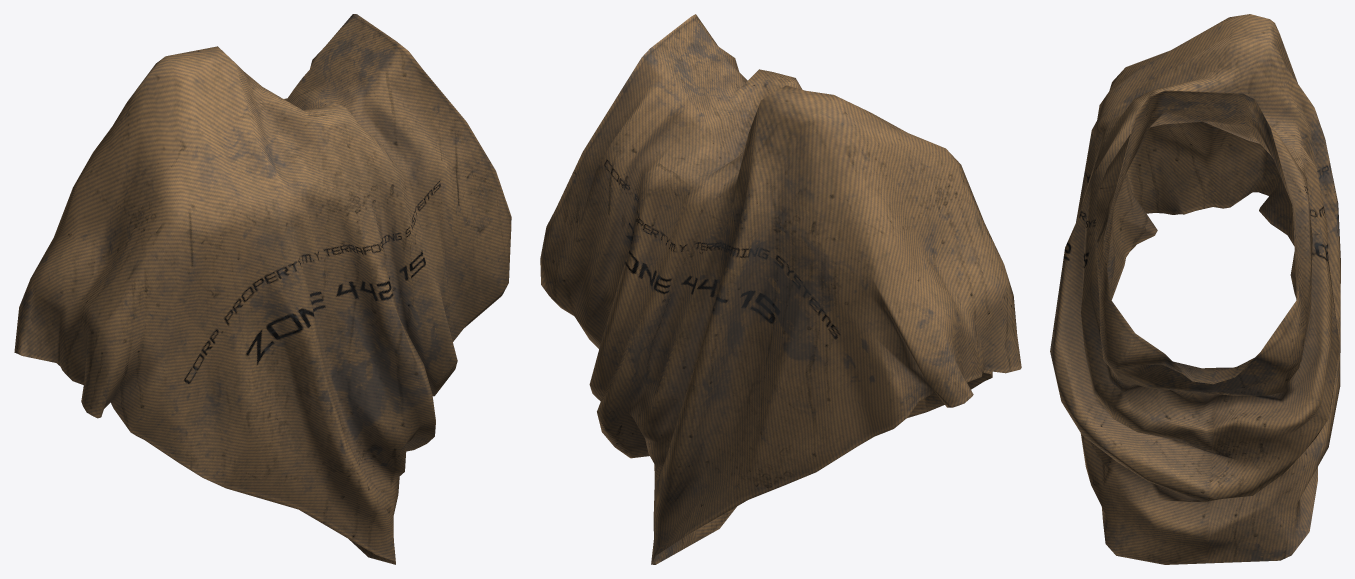
File: Antenna_06_Tilt.fbx
3 views of the same model, side by side, from view 1: azimuth 30°, elevation 25°; view 2: azimuth 150°, elevation 25°; view 3: azimuth 270°, elevation 25° (orthographic). The views are drawn at different scales.
Parts seen in each view (by area): view 1: polySurface1606; view 2: polySurface1606; view 3: polySurface1606.
Boxes of the visible parts, x1,y1,x2,y2 form: polySurface1606: (14,14,511,564); polySurface1606: (540,14,1021,564); polySurface1606: (1050,14,1340,564).
Size of the model in its own units: 509 by 586 by 317.
